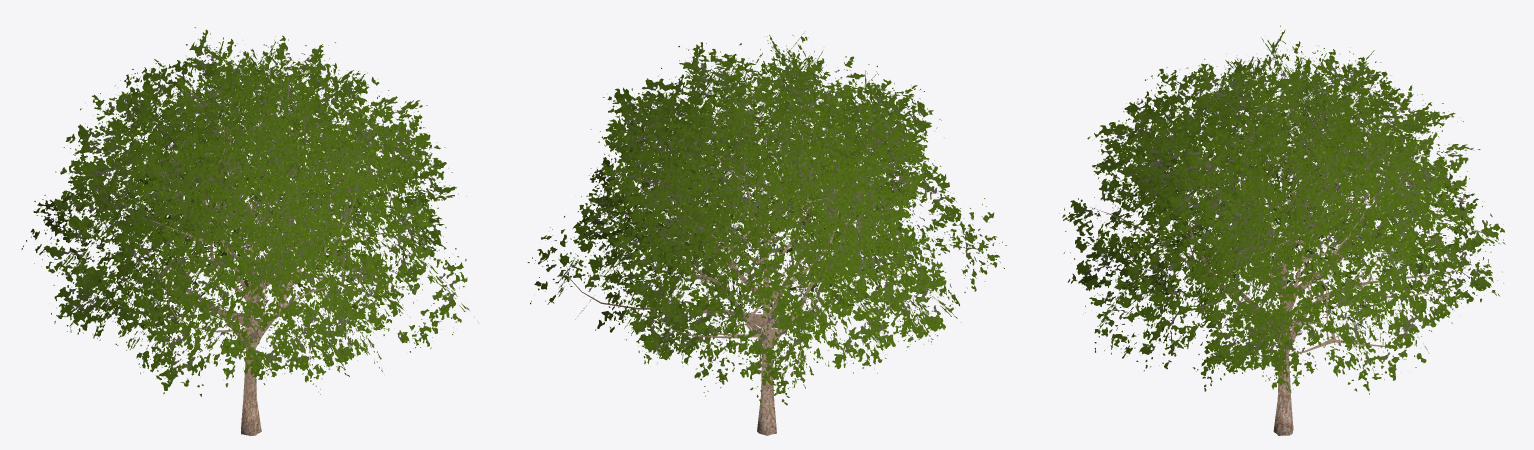
The model's file is tree6.fbx.
3 views of the same model, side by side, from view 1: azimuth 30°, elevation 25°; view 2: azimuth 150°, elevation 25°; view 3: azimuth 270°, elevation 25° (orthographic).
Visible parts, largest first — view 1: Tree_LOD0; view 2: Tree_LOD0; view 3: Tree_LOD0.
Part boxes in pixels (left/top/right/bottom): Tree_LOD0: left=21, top=27, right=478, bottom=435; Tree_LOD0: left=527, top=33, right=1006, bottom=435; Tree_LOD0: left=1059, top=25, right=1505, bottom=435.
Size of what is drawn, in the model's own units: 1631 by 1447 by 1592.
